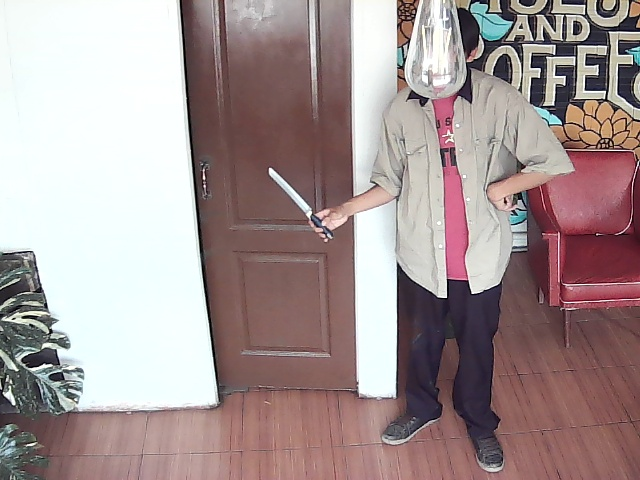cuchillo: (262, 164, 340, 247)
